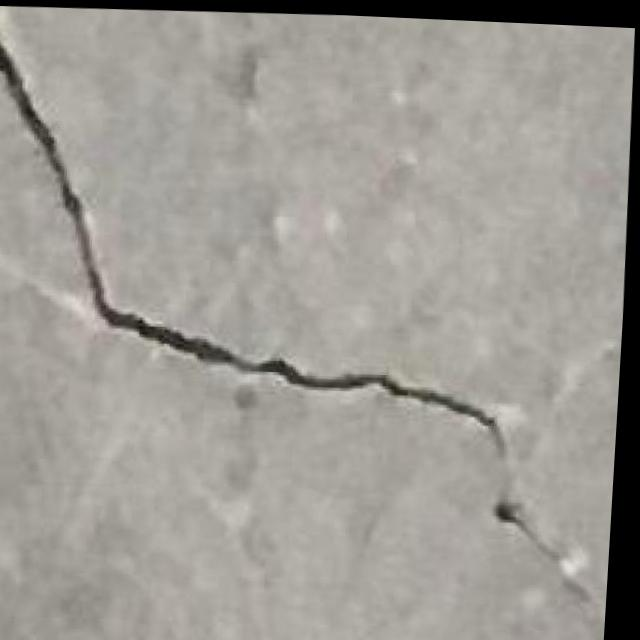Crack: (0, 9, 612, 580)
